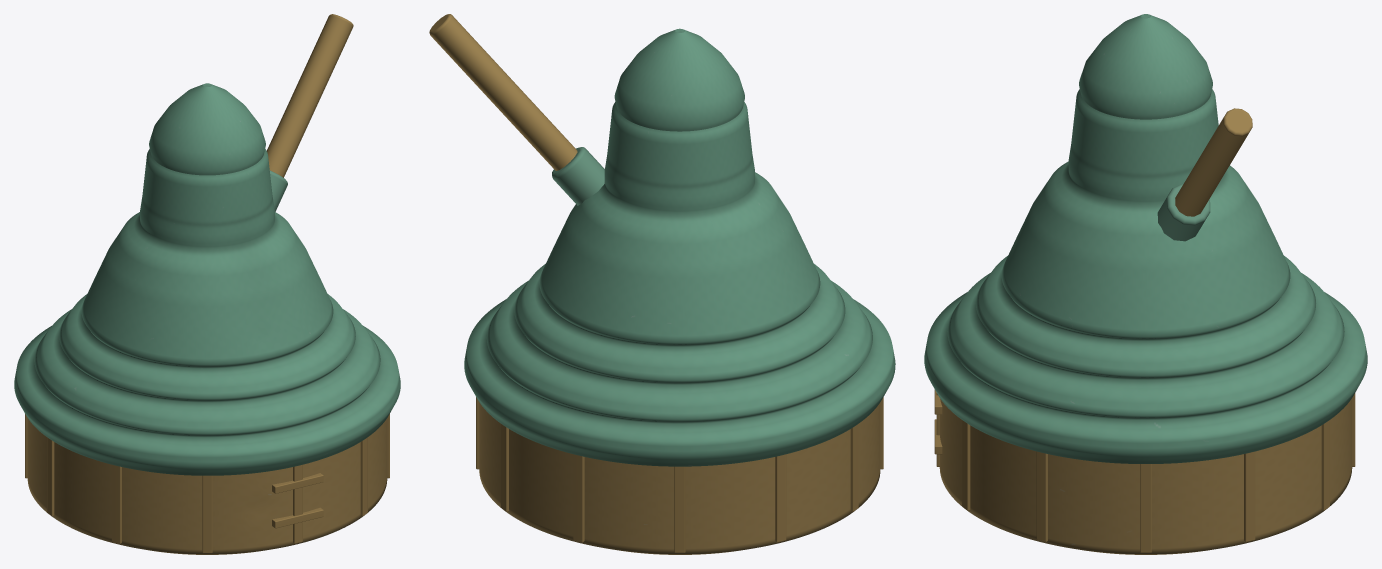
3 views of the same model, side by side, from view 1: azimuth 30°, elevation 25°; view 2: azimuth 150°, elevation 25°; view 3: azimuth 270°, elevation 25° (orthographic). The views are drawn at different scales.
Parts seen in each view (by area): view 1: RI18 stepped green silo casing, RI18 bronze foundation drum, RI18 closed silo cap, RI18 angled bronze attachment, RI18 bronze drum rib 8, RI18 bronze drum rib 7, RI18 bronze drum rib 9, RI18 bronze drum rib 10, RI18 bronze drum rib 6, RI18 front drum band 0, RI18 front drum band 1; view 2: RI18 stepped green silo casing, RI18 bronze foundation drum, RI18 closed silo cap, RI18 angled bronze attachment, RI18 angled attachment root sleeve, RI18 bronze drum rib 4, RI18 bronze drum rib 5, RI18 bronze drum rib 3, RI18 bronze drum rib 6, RI18 bronze drum rib 2; view 3: RI18 stepped green silo casing, RI18 bronze foundation drum, RI18 closed silo cap, RI18 angled bronze attachment, RI18 angled attachment root sleeve, RI18 bronze drum rib 1, RI18 bronze drum rib 11, RI18 bronze drum rib 0, RI18 bronze drum rib 10, RI18 bronze drum rib 2.
Boxes of the visible parts, <box> form: RI18 stepped green silo casing: <box>14,149,400,475</box>; RI18 bronze foundation drum: <box>27,418,387,554</box>; RI18 closed silo cap: <box>149,83,265,175</box>; RI18 angled bronze attachment: <box>267,14,353,177</box>; RI18 bronze drum rib 8: <box>202,475,212,553</box>; RI18 bronze drum rib 7: <box>112,464,121,543</box>; RI18 bronze drum rib 9: <box>293,464,302,543</box>; RI18 bronze drum rib 10: <box>360,437,367,516</box>; RI18 bronze drum rib 6: <box>47,437,54,516</box>; RI18 front drum band 0: <box>272,507,323,528</box>; RI18 front drum band 1: <box>272,473,323,493</box>; RI18 stepped green silo casing: <box>464,102,895,466</box>; RI18 bronze foundation drum: <box>479,402,880,554</box>; RI18 closed silo cap: <box>614,28,744,131</box>; RI18 angled bronze attachment: <box>429,14,577,170</box>; RI18 angled attachment root sleeve: <box>552,147,604,205</box>; RI18 bronze drum rib 4: <box>674,466,685,552</box>; RI18 bronze drum rib 5: <box>775,454,786,542</box>; RI18 bronze drum rib 3: <box>573,454,584,542</box>; RI18 bronze drum rib 6: <box>850,424,858,511</box>; RI18 bronze drum rib 2: <box>501,424,508,511</box>; RI18 stepped green silo casing: <box>924,89,1367,463</box>; RI18 bronze foundation drum: <box>939,398,1352,554</box>; RI18 closed silo cap: <box>1079,14,1212,119</box>; RI18 angled bronze attachment: <box>1175,108,1252,216</box>; RI18 angled attachment root sleeve: <box>1157,183,1210,241</box>; RI18 bronze drum rib 1: <box>1244,451,1255,542</box>; RI18 bronze drum rib 11: <box>1036,451,1047,542</box>; RI18 bronze drum rib 0: <box>1140,464,1151,552</box>; RI18 bronze drum rib 10: <box>962,420,970,510</box>; RI18 bronze drum rib 2: <box>1321,420,1329,510</box>.
Size of the model in its own units: 1.8 by 1.97 by 1.72.
8 materials, 4 textured.
